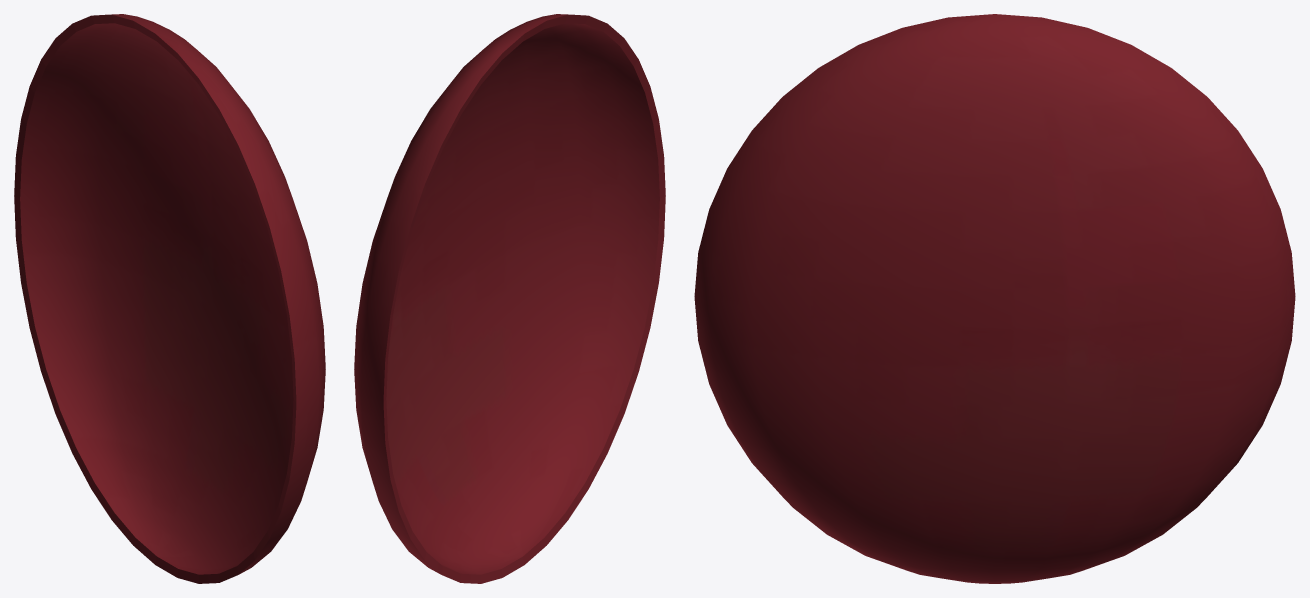
Rendered from Strap part.fbx.
The picture shows the model from 3 angles, left to right: view 1: azimuth 30°, elevation 25°; view 2: azimuth 150°, elevation 25°; view 3: azimuth 270°, elevation 25°; orthographic projection. The views are drawn at different scales.
Visible parts, largest first — view 1: Strap_mid_part; view 2: Strap_mid_part; view 3: Strap_mid_part.
Part boxes in pixels (<box>): Strap_mid_part: <box>14,14,325,583</box>; Strap_mid_part: <box>354,14,665,583</box>; Strap_mid_part: <box>694,14,1295,583</box>.
Size of the model in its own units: 0.0102 by 0.0543 by 0.0523.
Materials: 1 (1 with a texture image).
